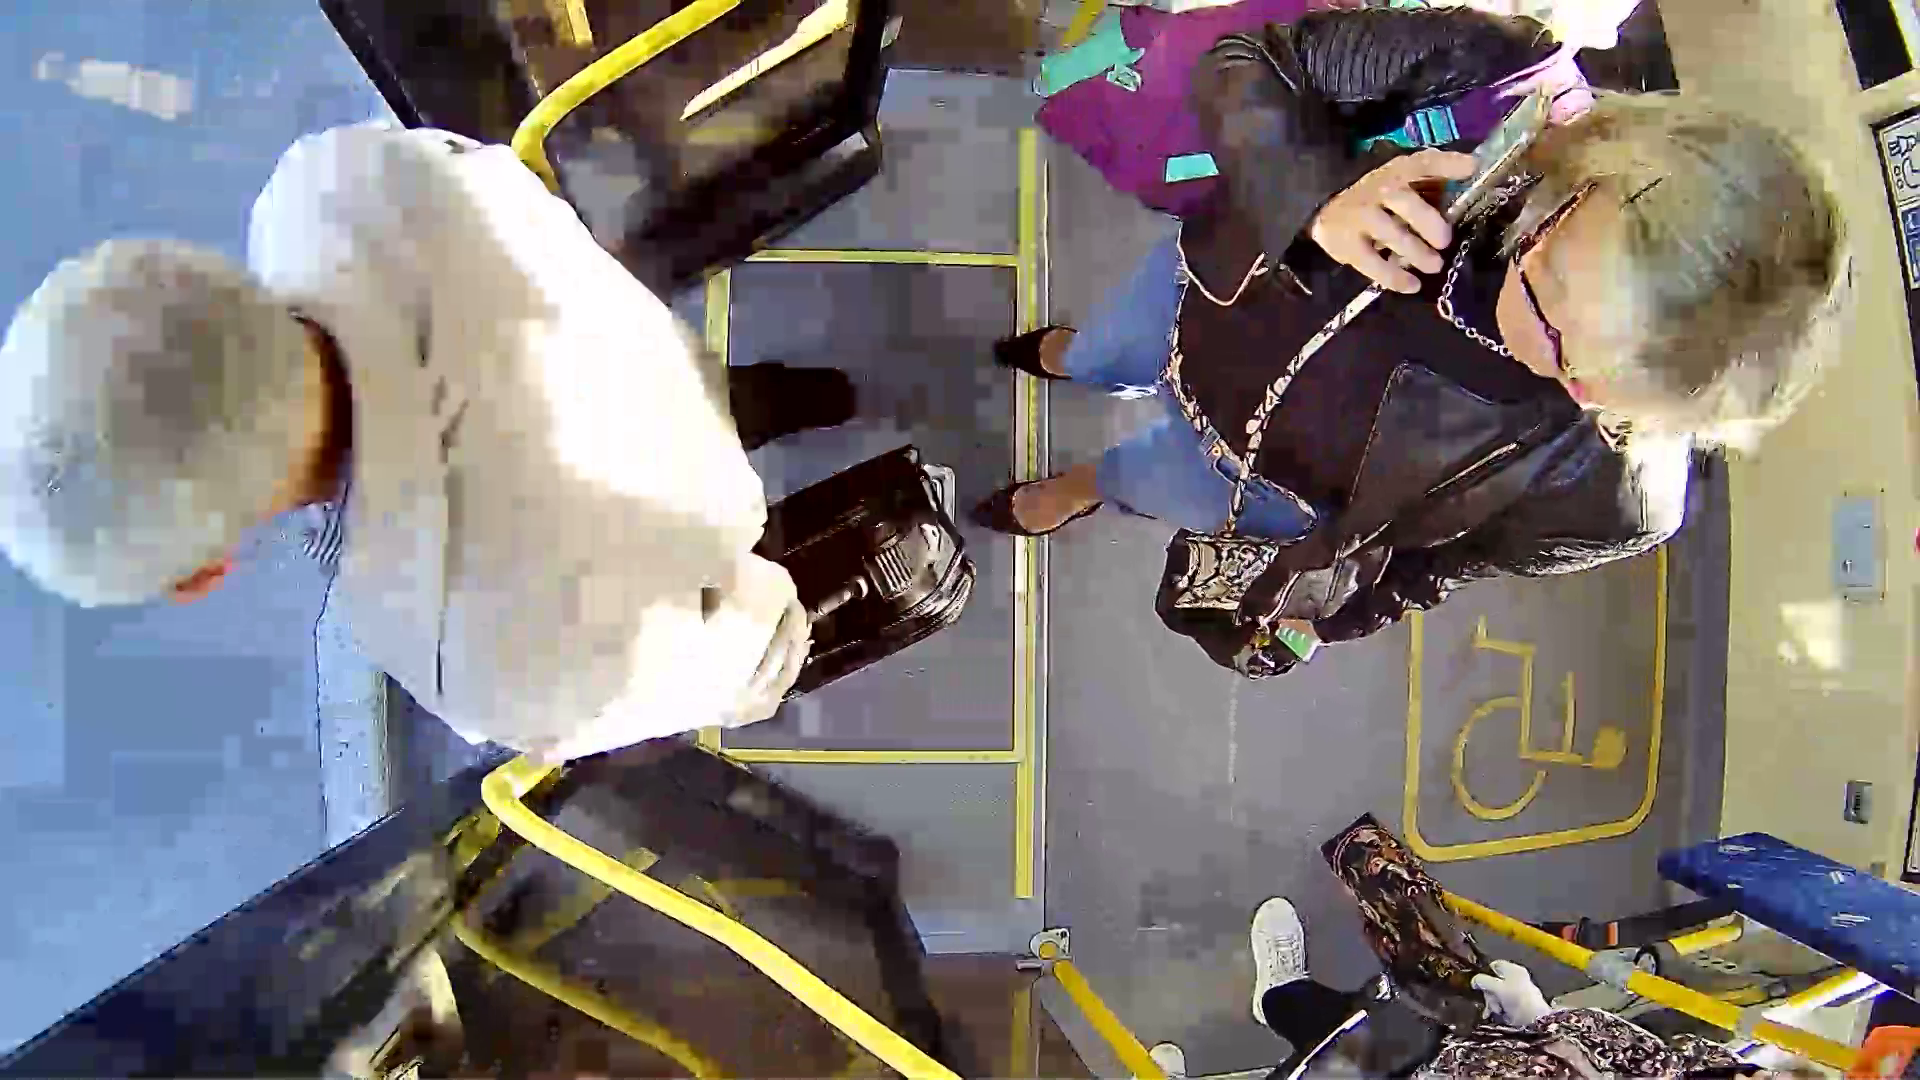person: (39, 105, 942, 814), (1075, 26, 1878, 681)
